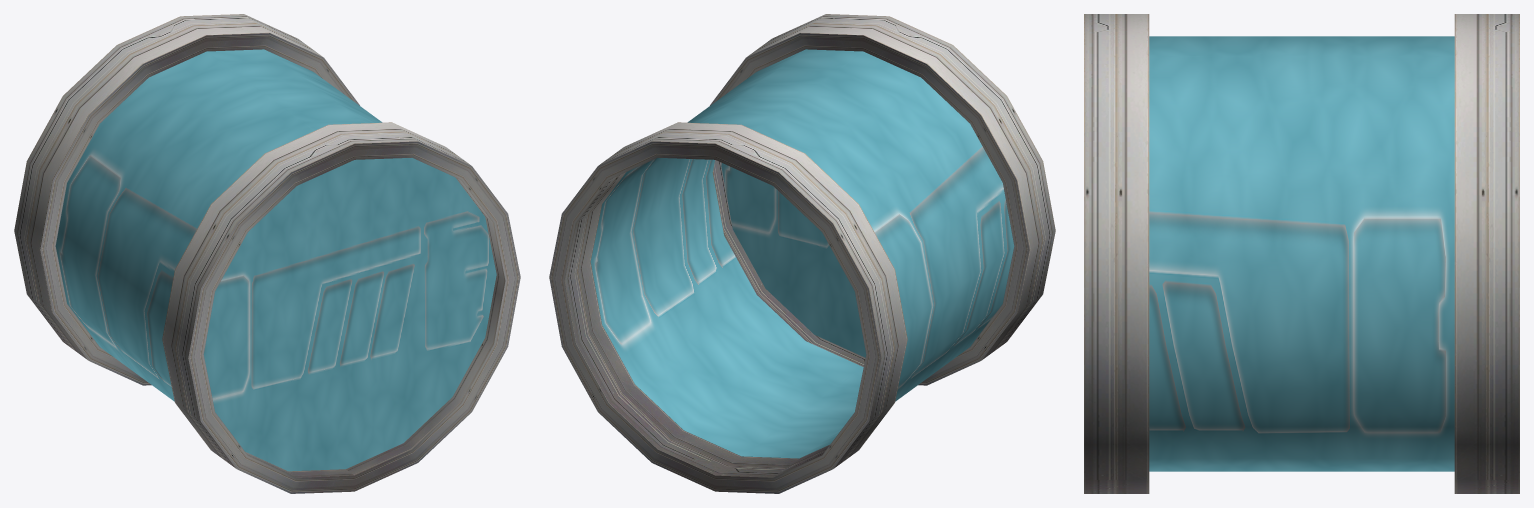
Rendered from XTubeEndCap.DAE.
3 views of the same model, side by side, from view 1: azimuth 30°, elevation 25°; view 2: azimuth 150°, elevation 25°; view 3: azimuth 270°, elevation 25° (orthographic). The views are drawn at different scales.
Visible parts, largest first — view 1: ElevatorGlass, HighRiseD; view 2: ElevatorGlass, HighRiseD; view 3: ElevatorGlass, HighRiseD.
Boxes of the visible parts, left/top/right/bottom form: ElevatorGlass: left=55, top=49, right=496, bottom=471; HighRiseD: left=14, top=14, right=520, bottom=493; ElevatorGlass: left=590, top=49, right=1014, bottom=458; HighRiseD: left=549, top=14, right=1055, bottom=493; ElevatorGlass: left=1149, top=36, right=1454, bottom=471; HighRiseD: left=1084, top=14, right=1519, bottom=493.
Bounding box in the file's own units: 4.41 × 4 × 4.41.
